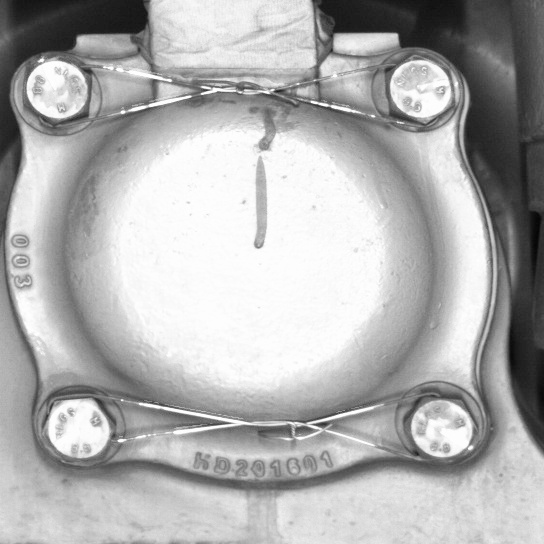IronWire: (30, 380, 486, 475), (10, 46, 464, 137)
Screw: (32, 381, 124, 474), (392, 383, 485, 472), (378, 43, 464, 137), (12, 48, 104, 134)
